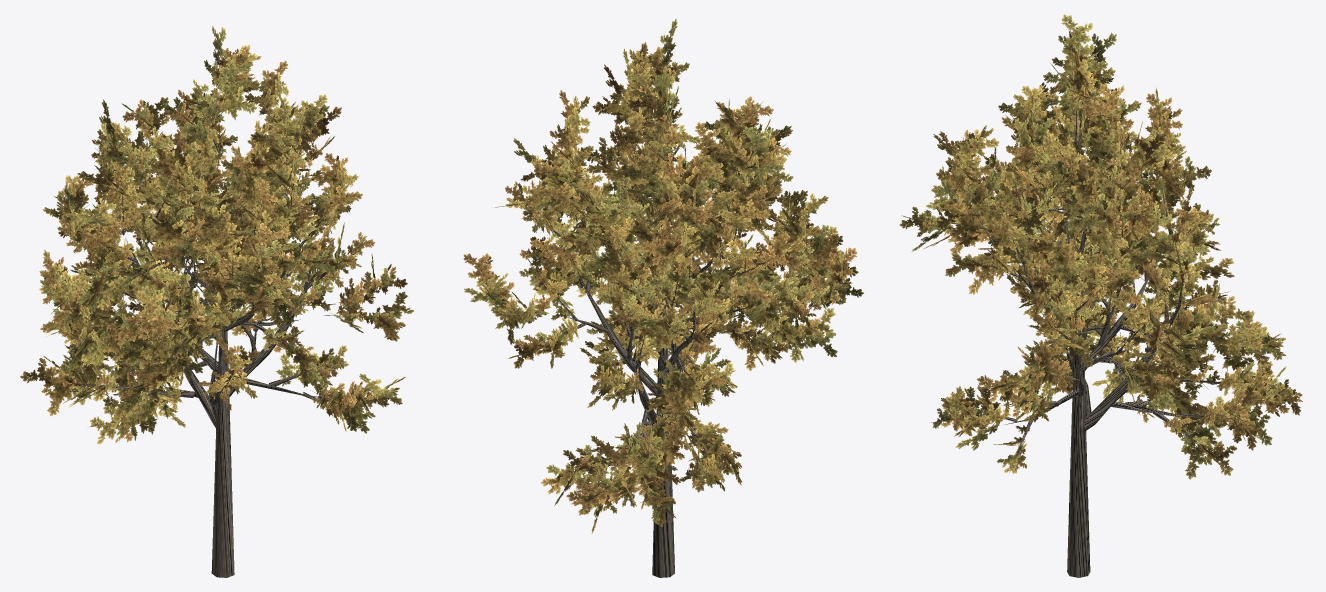
3 views of the same model, side by side, from view 1: azimuth 30°, elevation 25°; view 2: azimuth 150°, elevation 25°; view 3: azimuth 270°, elevation 25° (orthographic).
Parts seen in each view (by area): view 1: Tree; view 2: Tree; view 3: Tree.
Boxes of the visible parts, box(x1,y1,x2,y2) form: Tree: box(20, 26, 413, 577); Tree: box(463, 18, 863, 577); Tree: box(899, 14, 1302, 577).
Size of the model in its own units: 49.69 by 72.53 by 49.09.
Materials: 2 (2 with a texture image).
